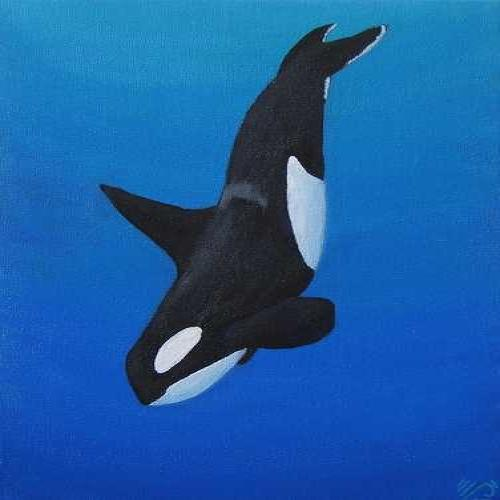killer_whale-endangered: (79, 16, 398, 418)
